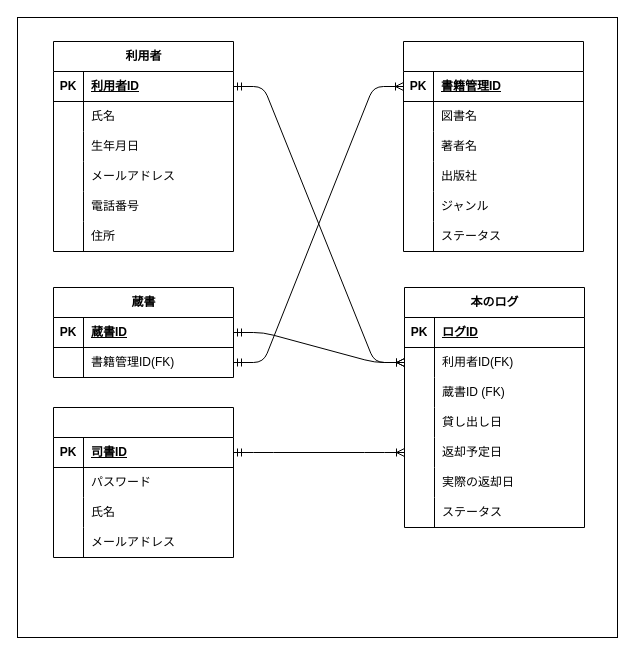
Some shapes in this 635 by 655 pixel diagram are drawn without their labels. The shapes that lost their labels are listed below. From the top down, each one's box as (x1, y1, x2, y2) in pixels, then its label:
(402, 40, 584, 252): 書籍
(52, 406, 234, 558): 司書
